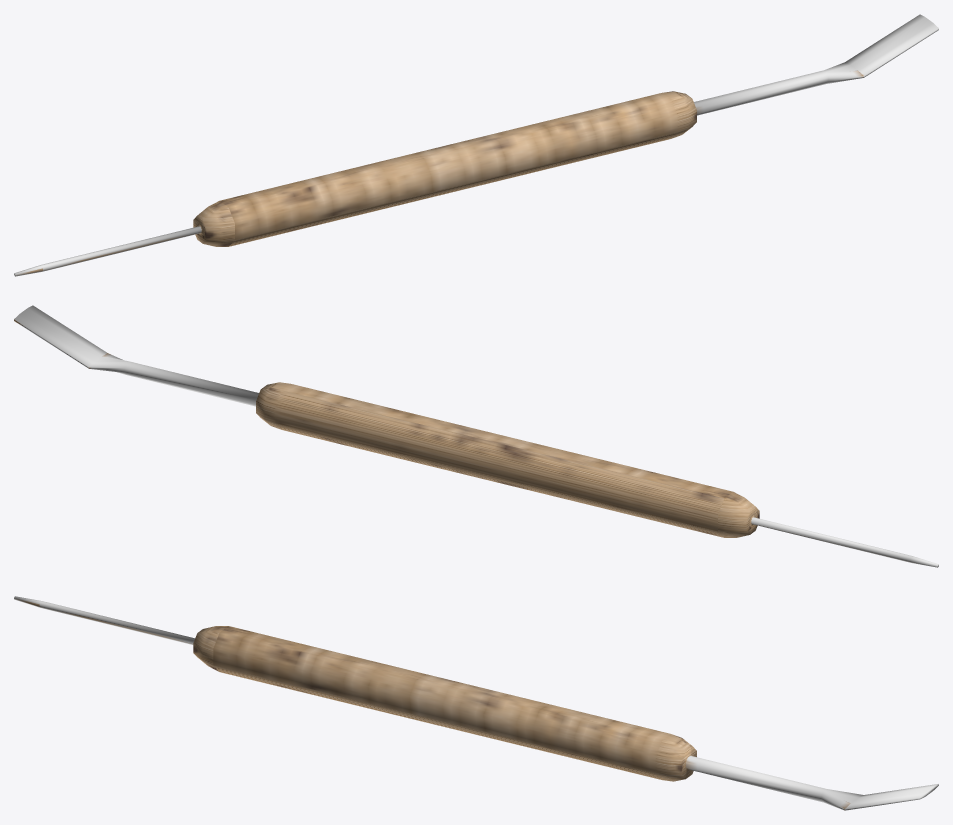
The model's file is Scalpel1.fbx.
3 renders of one model, top to bottom at view 1: azimuth 30°, elevation 25°; view 2: azimuth 150°, elevation 25°; view 3: azimuth 330°, elevation 25°, orthographic.
Parts seen in each view (by area): view 1: Scalpel1; view 2: Scalpel1; view 3: Scalpel1.
Part boxes in pixels (box(x1,y1,x2,y2)): Scalpel1: box(14, 14, 938, 276); Scalpel1: box(14, 305, 938, 567); Scalpel1: box(14, 596, 938, 810).
Bounding box in the file's own units: 0.4445 × 0.0239 × 0.0184.
